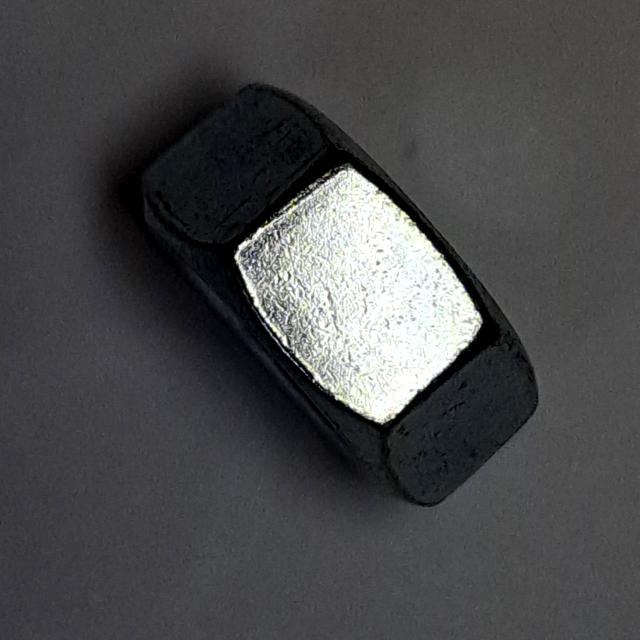Side_Excellent: (132, 68, 558, 517)
